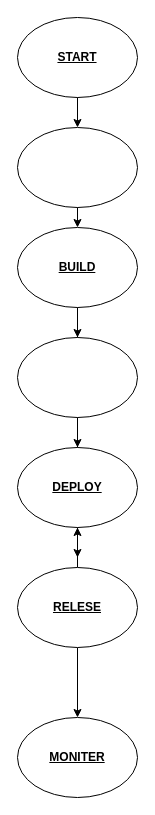
Some shapes in this 155 by 815 pixel diagram are drawn without their labels. The shapes that lost their labels are listed below. From the top down, each one's centre as x and y in pixels, then its label:
At pixel 77 167: "PLAN".
At pixel 77 377: "TEST".
